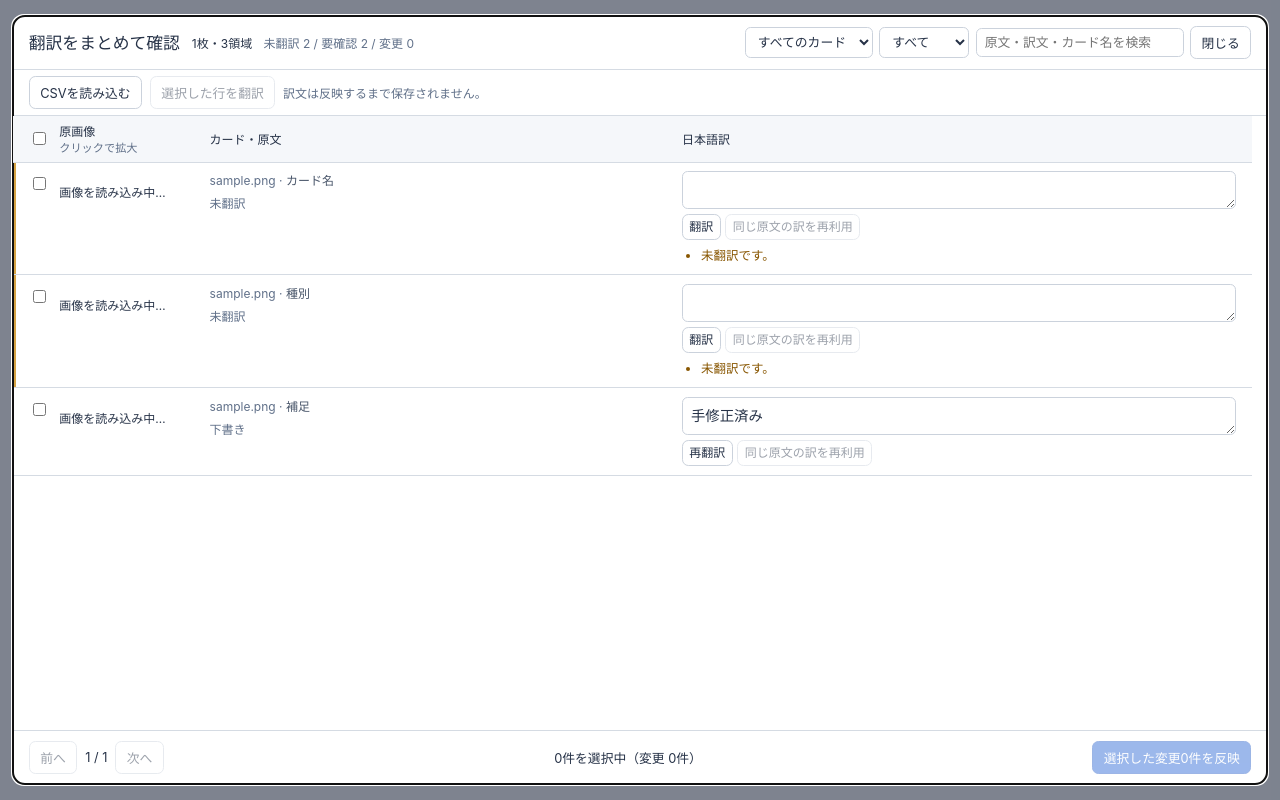
Test case: browser translation review batch › discards in-flight output after cancellation and skips subsequent rows
The width and height of the screenshot is (1280, 800).
Step 1. Click the 1st checkbox with class "review-row-check" → (39, 183), box [33,177,46,190]
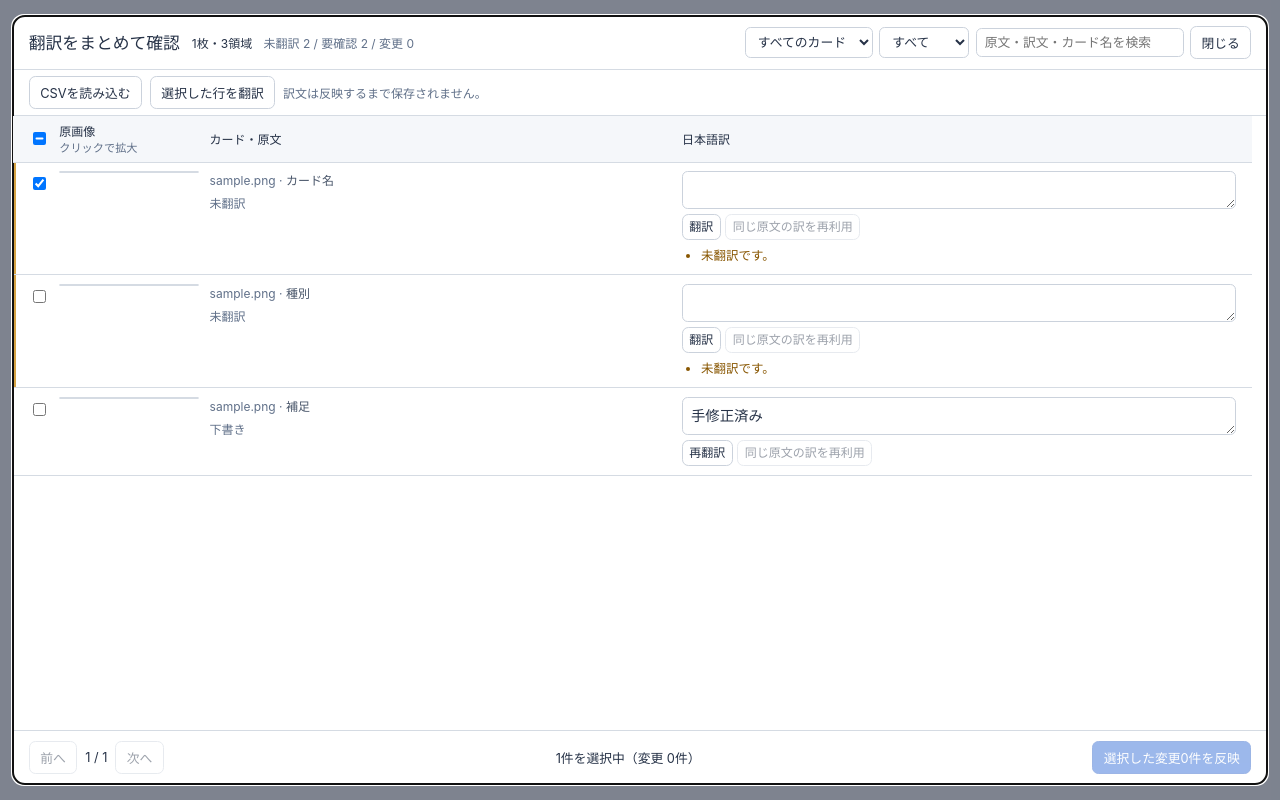
Step 2. Click the 2nd checkbox with class "review-row-check" → (39, 296), box [33,290,46,303]
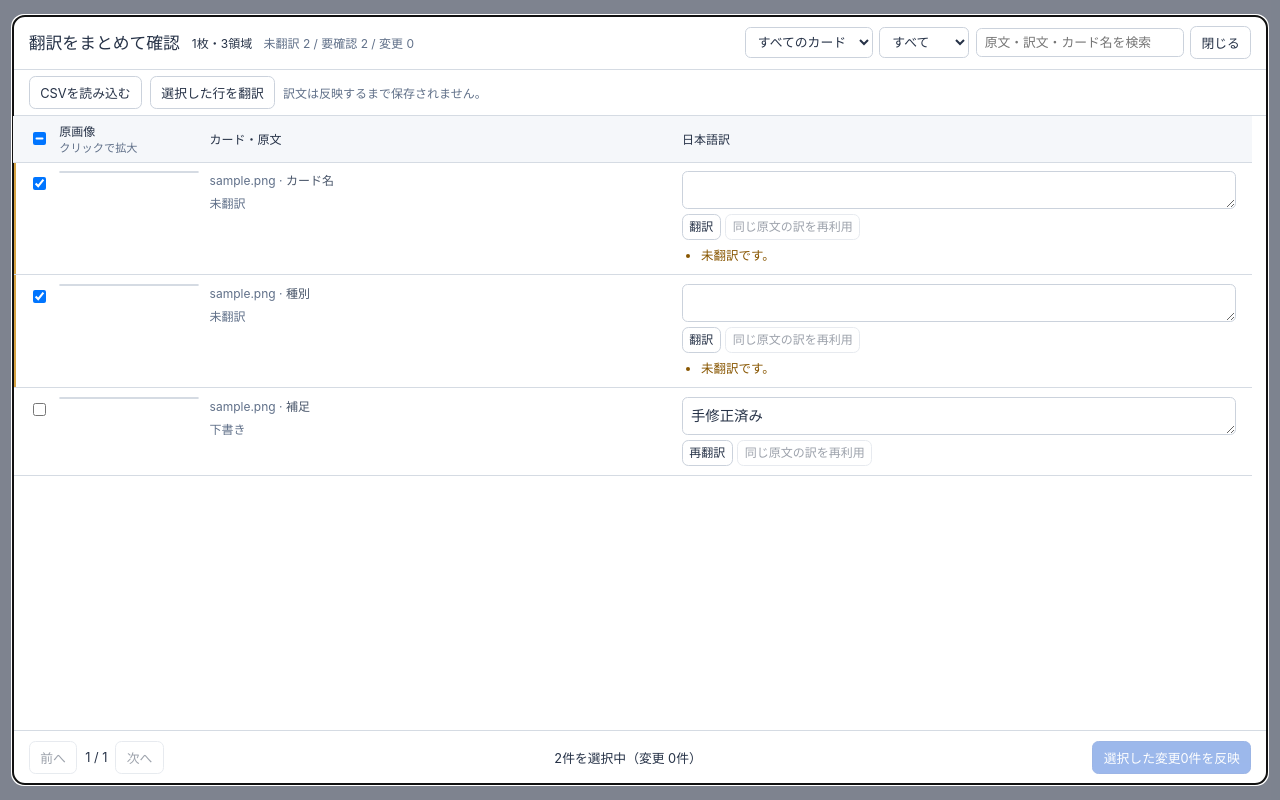
Step 3. Click the button "選択した行を翻訳" → (213, 92), box [150,76,275,109]
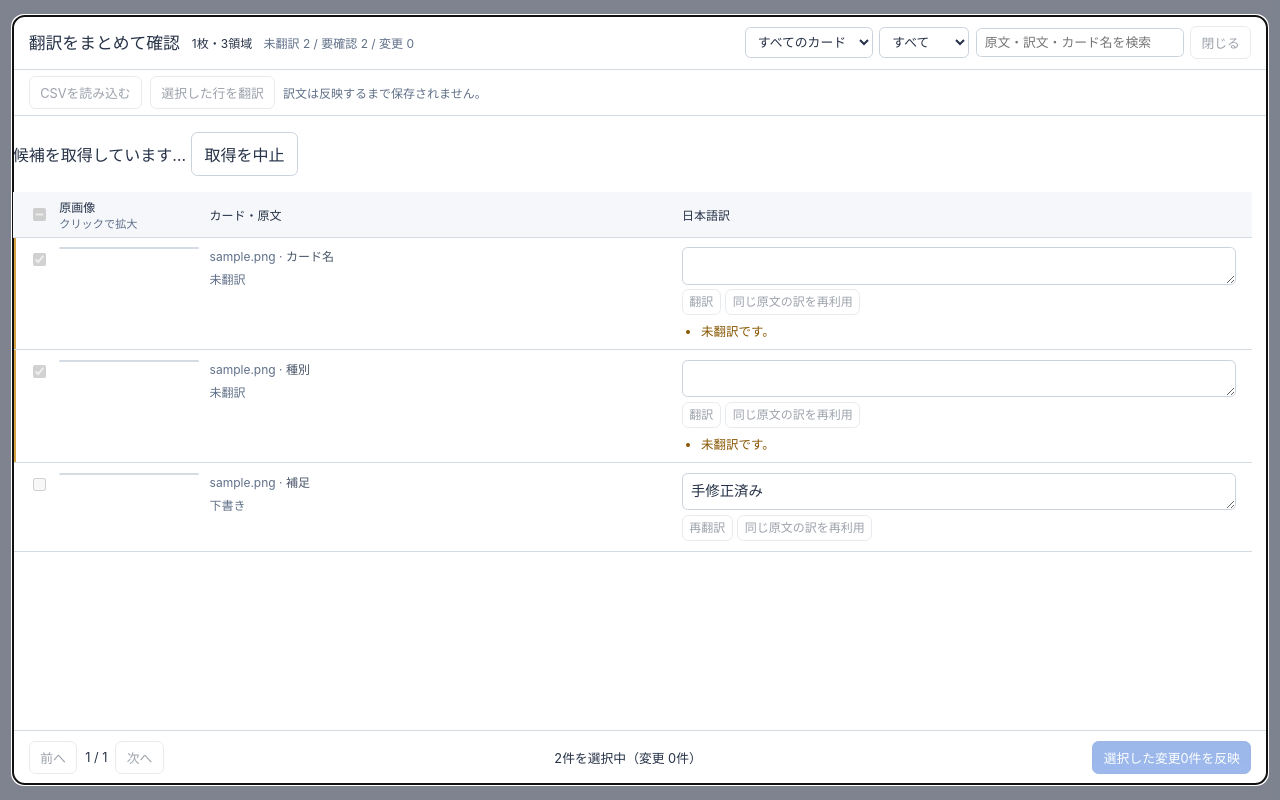
Step 4. Click the button "取得を中止" → (244, 154), box [191,132,298,176]
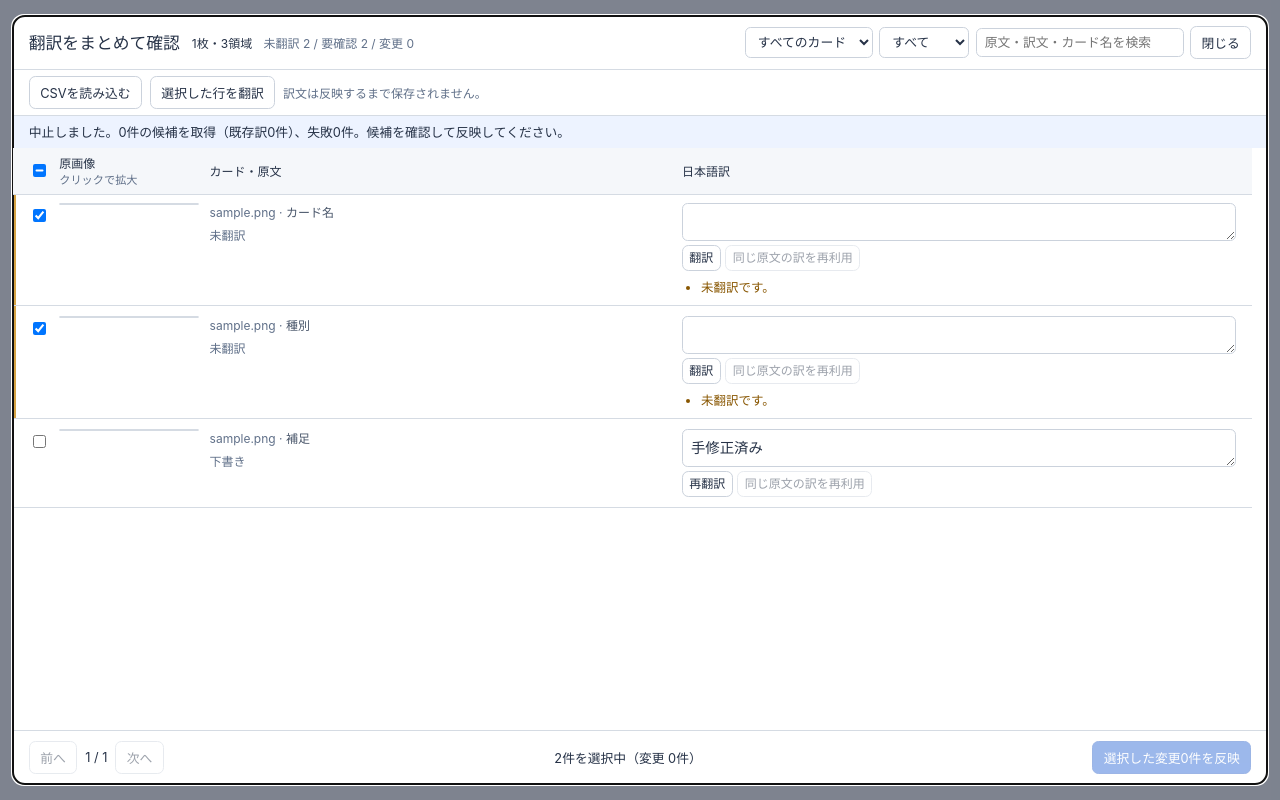
Expected: the text "中止しました" is shown, [29,125,570,140]
